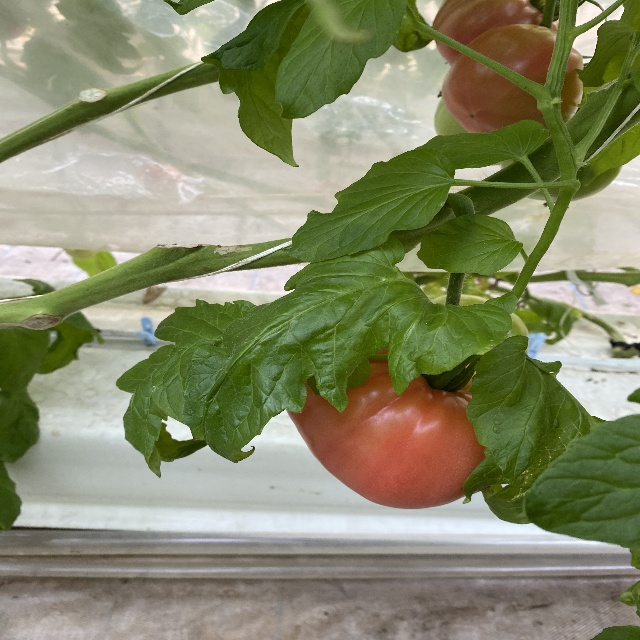b_half_ripened: (284, 346, 487, 509), (442, 24, 584, 138), (433, 0, 559, 66)
